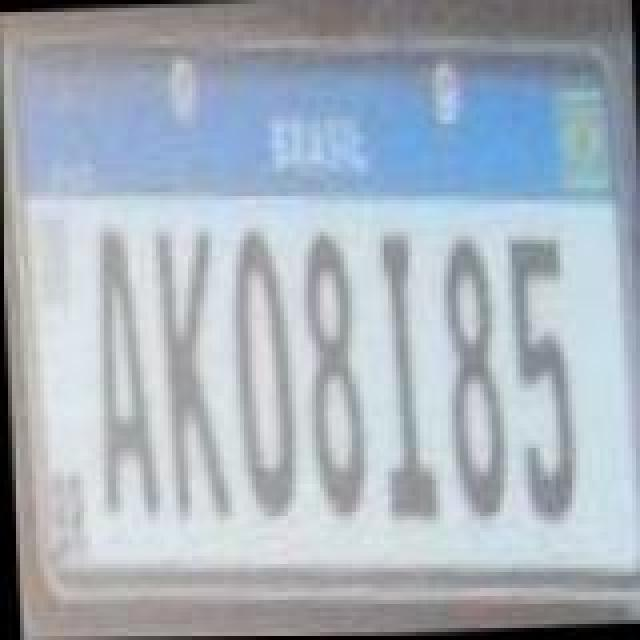5: (502, 234, 574, 522)
8: (432, 236, 508, 524), (294, 224, 366, 520)
A: (84, 226, 160, 522)
I: (366, 230, 438, 526)
K: (148, 216, 232, 524)
O: (224, 222, 300, 526)
